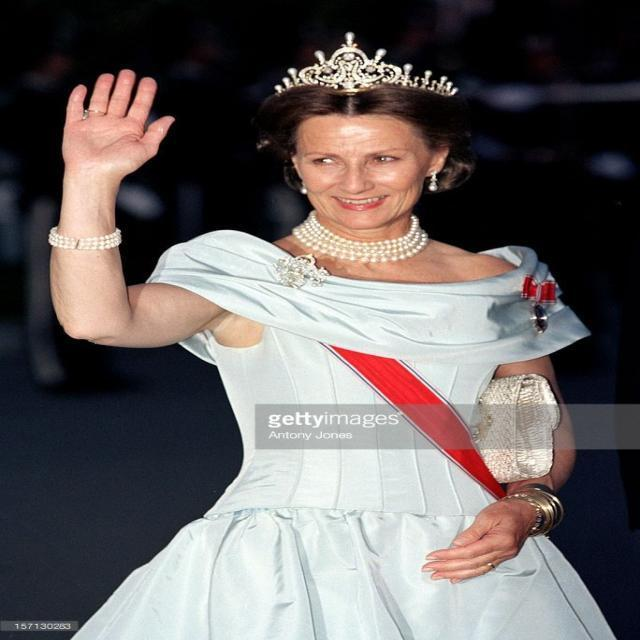Earring: (424, 168, 444, 199), (294, 183, 320, 202)
